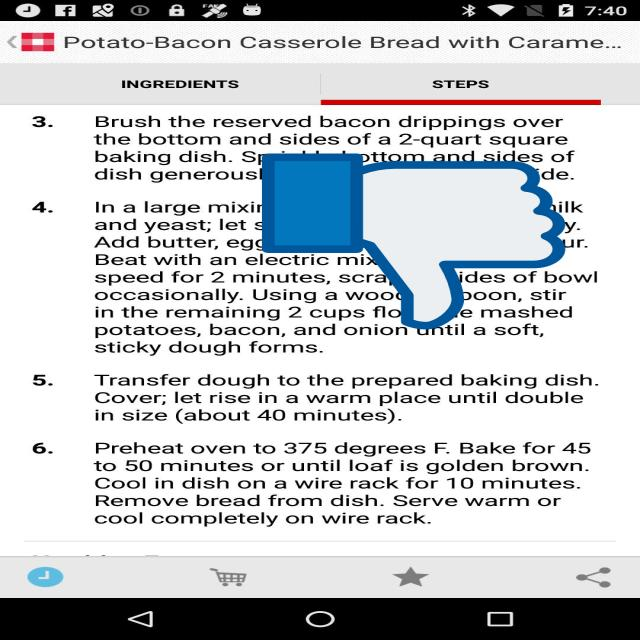obstruction: (262, 150, 565, 333)
